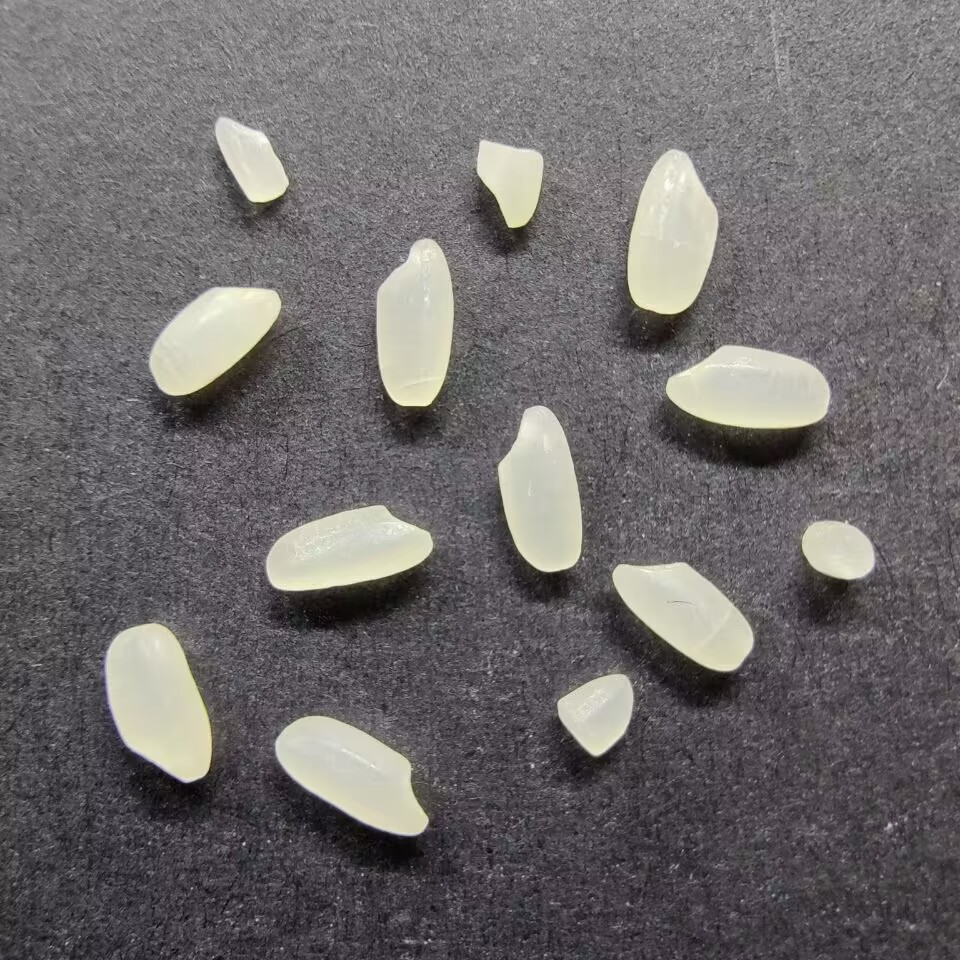broken: (210, 115, 292, 205), (554, 671, 635, 759), (472, 137, 545, 230), (800, 517, 877, 583)
rice: (272, 713, 429, 838), (104, 621, 213, 785), (610, 561, 756, 674), (625, 147, 720, 317), (264, 502, 435, 594), (495, 404, 585, 573), (148, 284, 282, 397), (664, 343, 833, 430), (373, 236, 455, 409)
